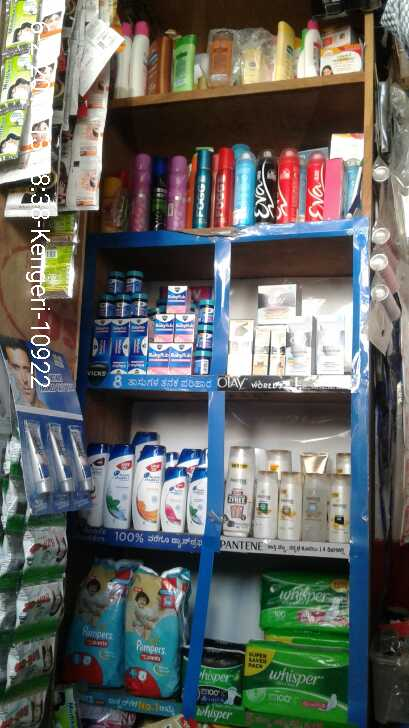beauty: (226, 444, 252, 536), (134, 444, 161, 529), (104, 443, 130, 529), (314, 314, 345, 377), (285, 314, 313, 377), (302, 473, 327, 542), (161, 463, 186, 532), (278, 468, 301, 542), (253, 471, 278, 538), (256, 283, 297, 322), (330, 472, 351, 543), (187, 467, 207, 536), (228, 318, 252, 374), (268, 325, 286, 377), (252, 329, 268, 377)
pharmacy: (169, 345, 195, 375), (145, 345, 168, 373), (152, 314, 174, 341), (174, 315, 193, 343), (191, 350, 213, 374), (196, 326, 214, 350), (131, 292, 147, 318), (124, 273, 142, 293), (98, 295, 113, 318), (200, 300, 213, 324), (115, 298, 129, 318)
